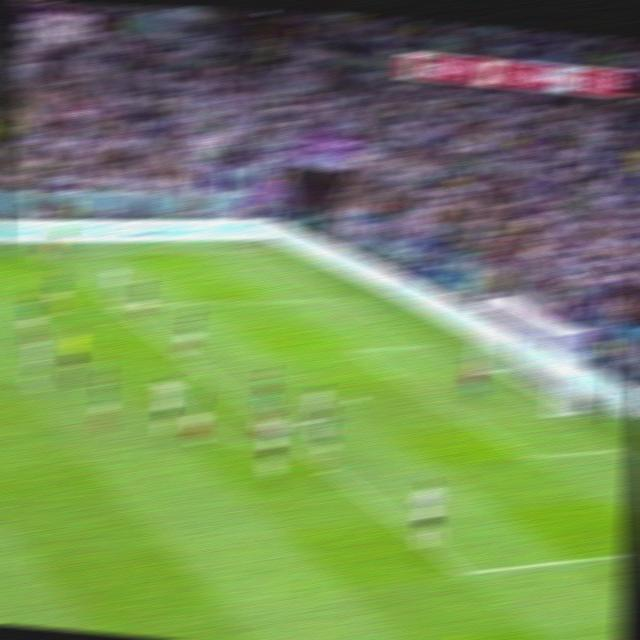bigarea_bottom_inner: (450, 562, 475, 586)
bigarea_top_inner: (111, 300, 128, 312)
bigarea_top_outter: (332, 295, 352, 306)
bottom_arc_area_intersection: (306, 449, 326, 468)
corner: (246, 246, 268, 258)
smallarea_bottom_inner: (516, 446, 541, 469)
smallarea_bottom_outter: (604, 442, 627, 459)
smallarea_top_inner: (343, 341, 365, 360)
smallarea_top_outter: (418, 339, 436, 353)
top_arc_area_intersection: (186, 357, 209, 378)
